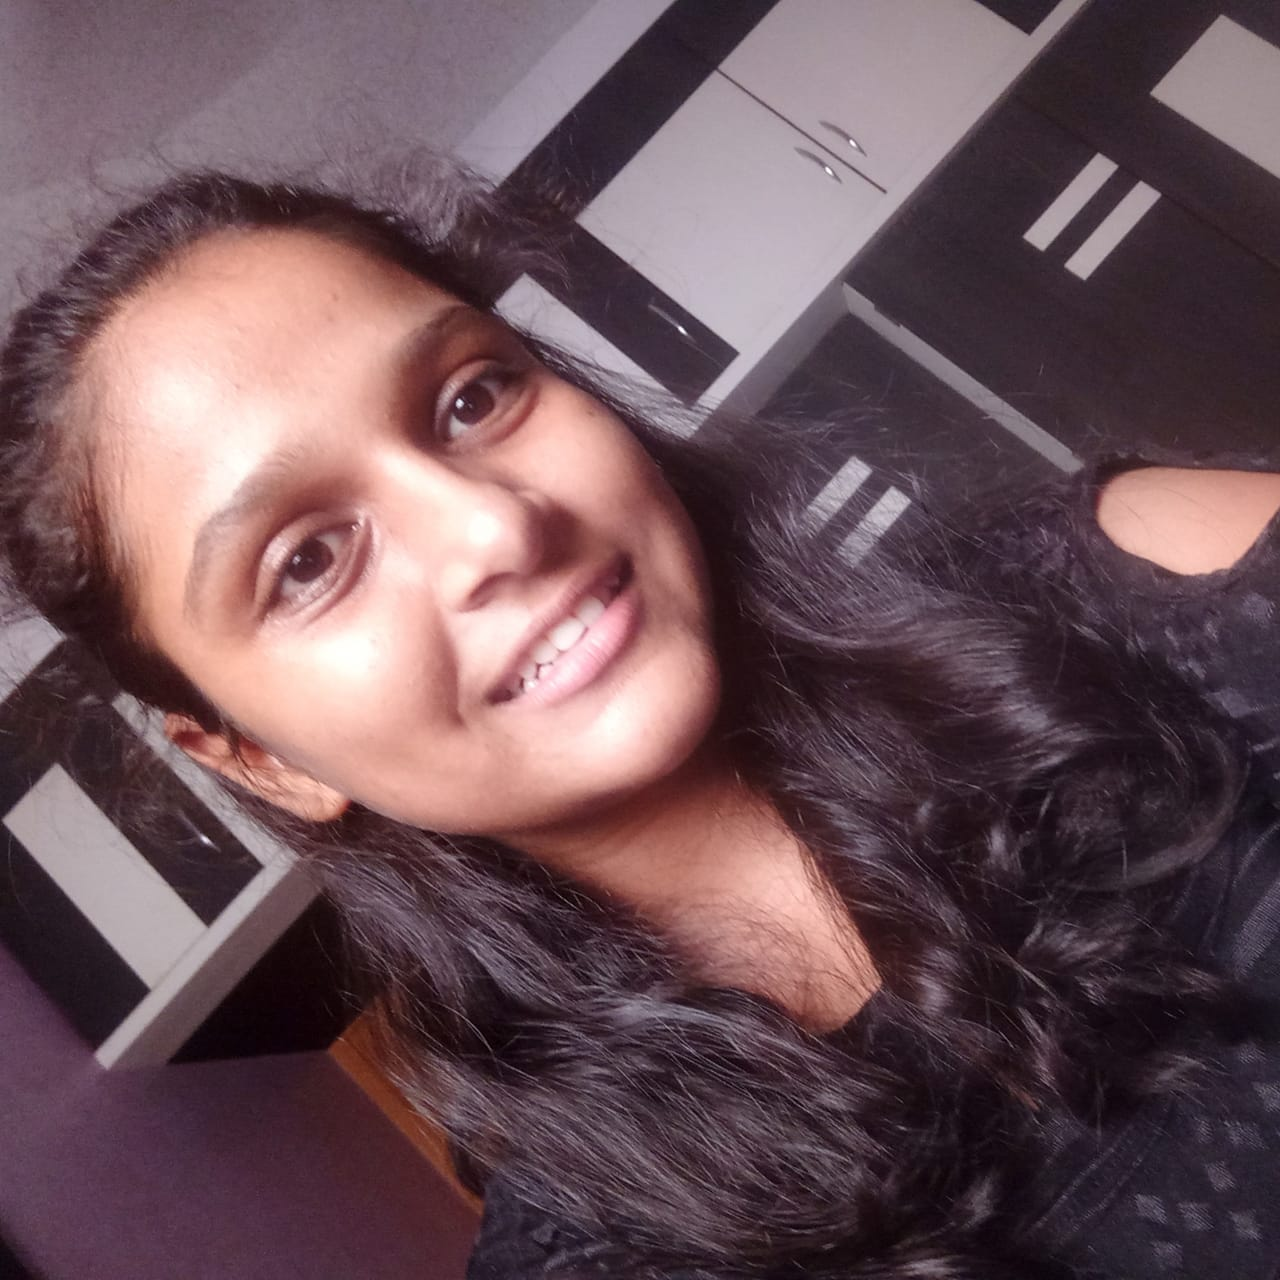face: (58, 221, 720, 831)
